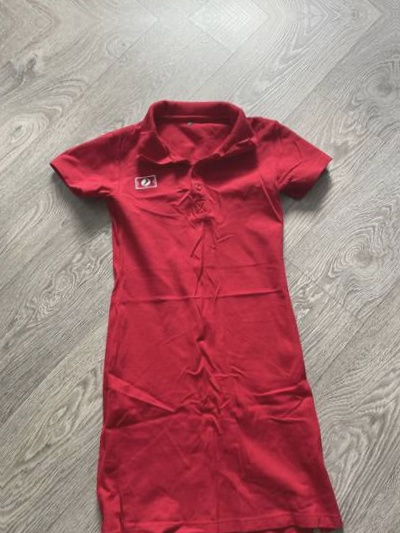Dress: (46, 90, 362, 533)
